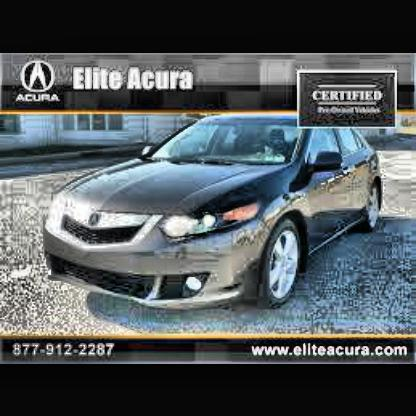Acura TSX Sedan 2012: (43, 113, 388, 320)
